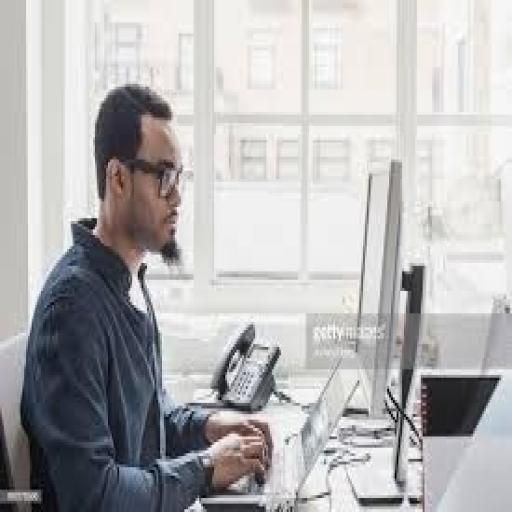using_laptop: (198, 353, 360, 509)
